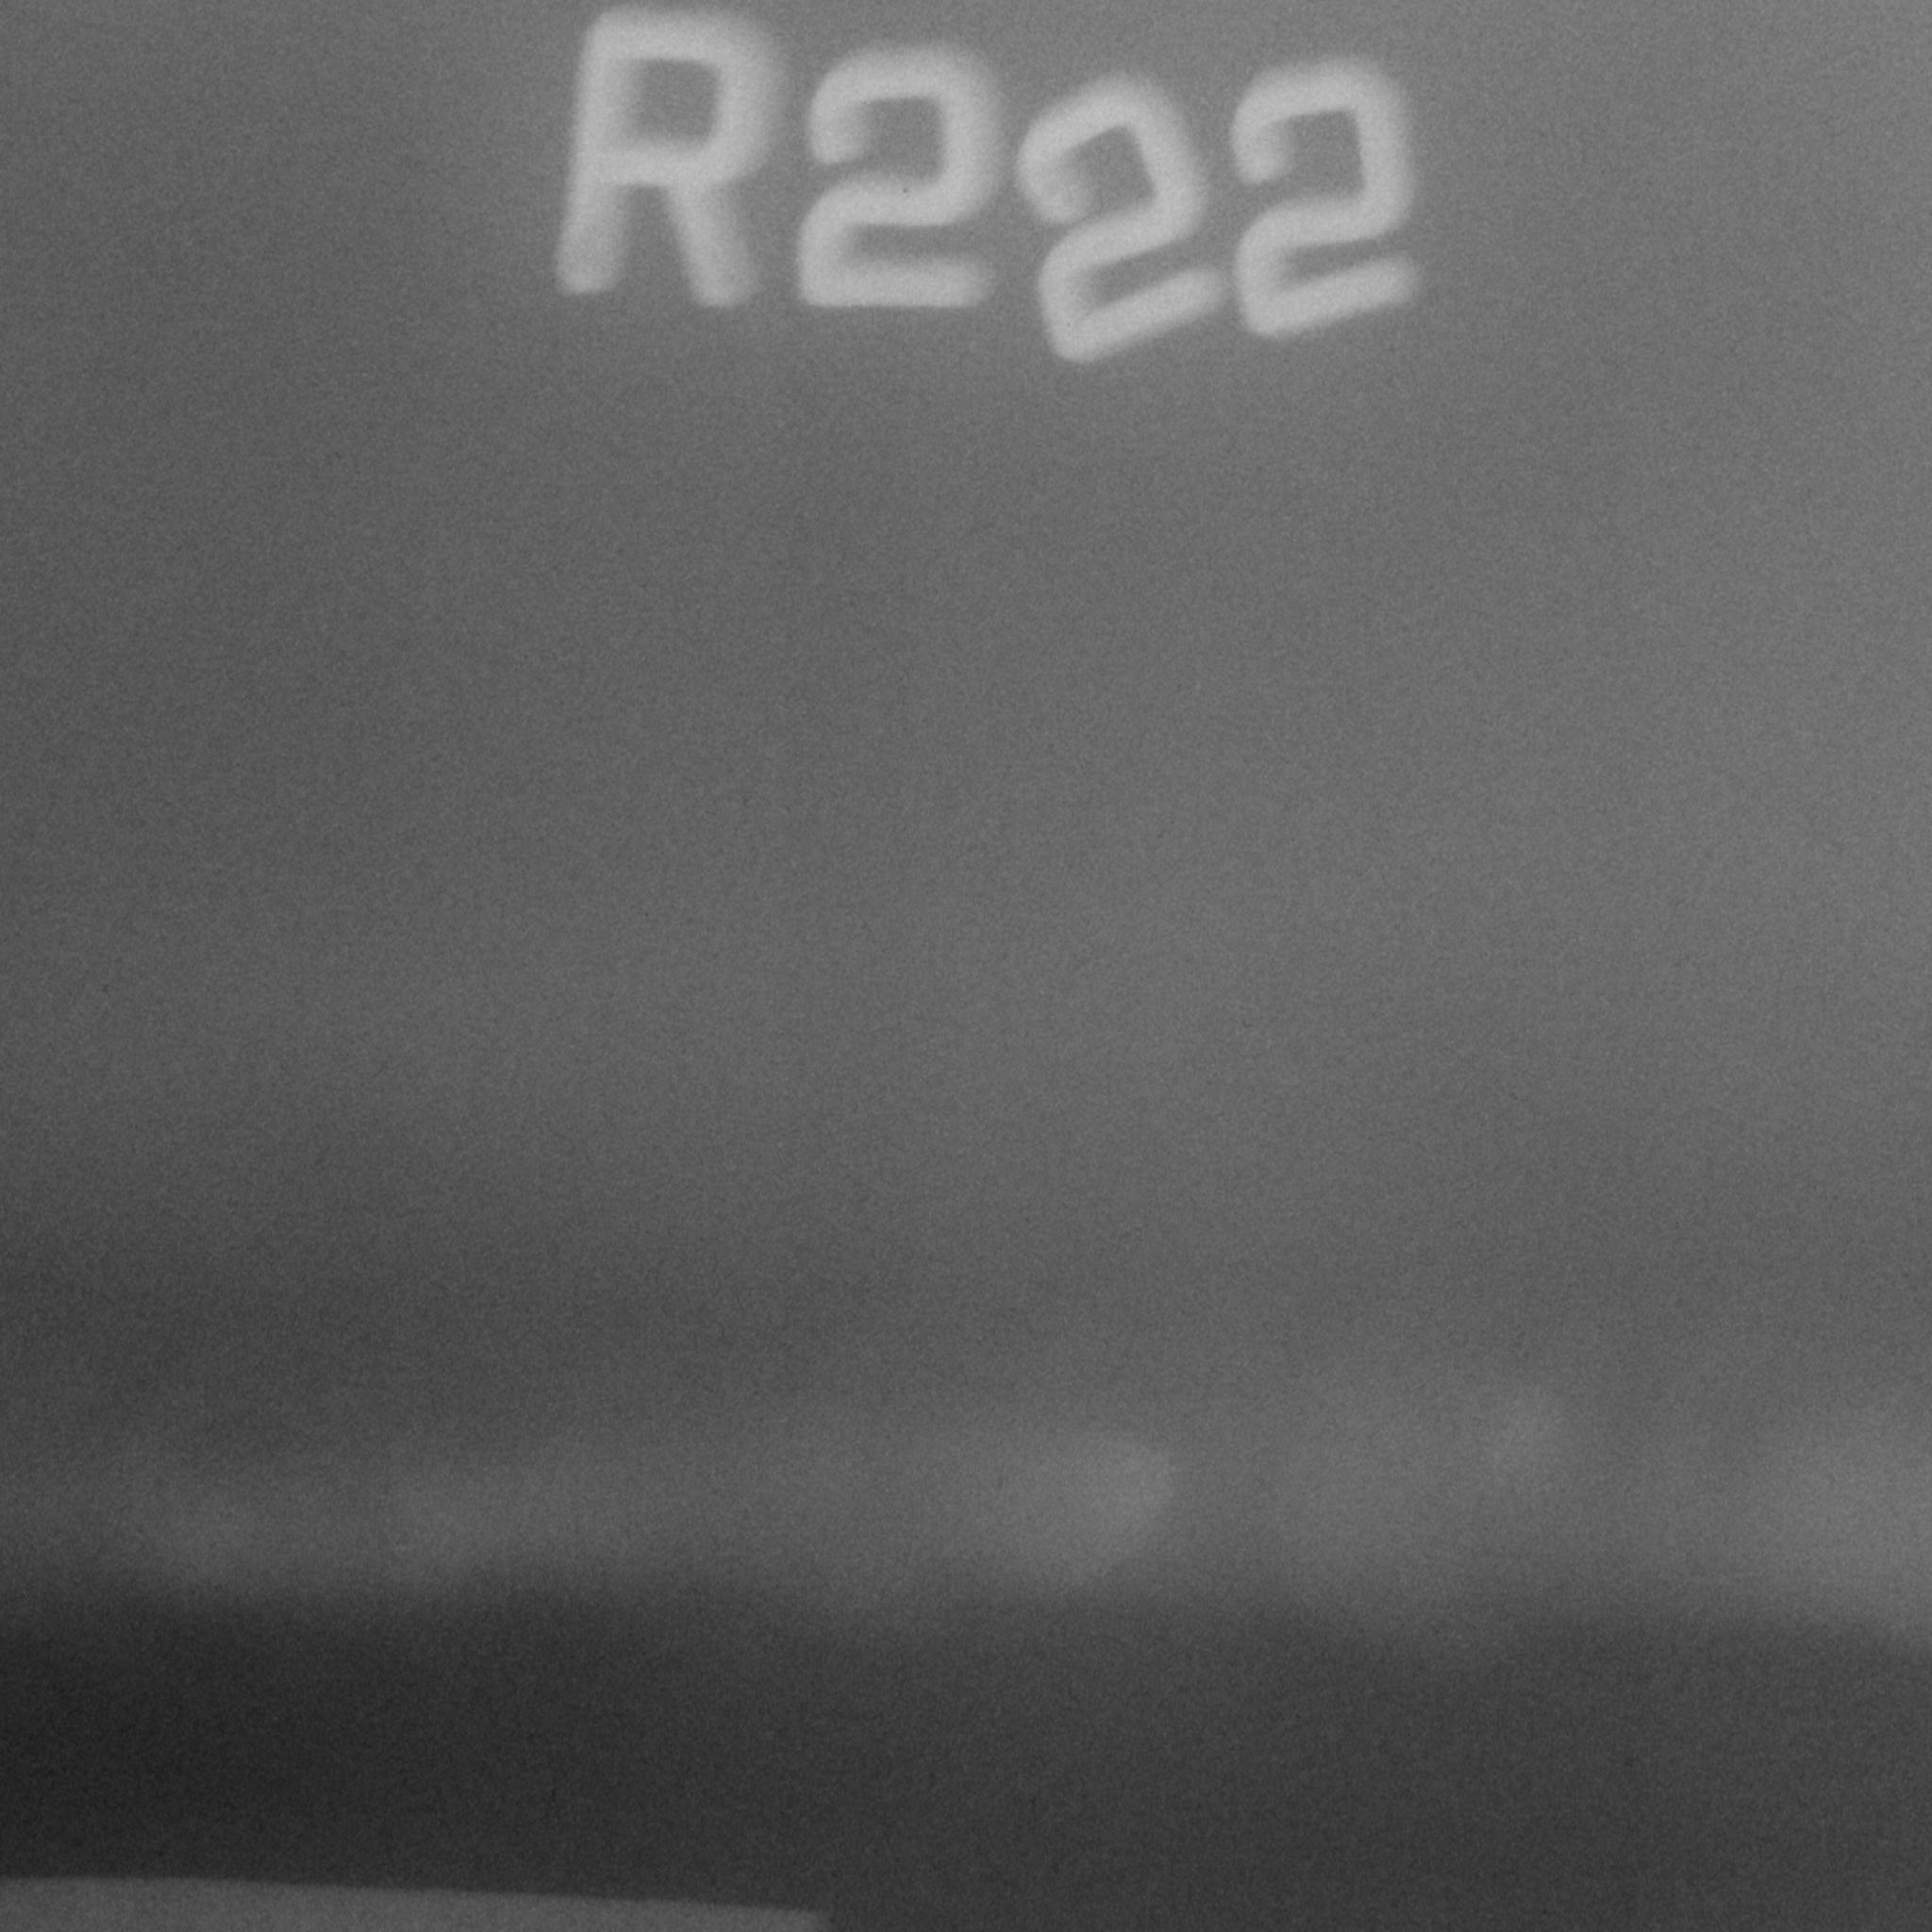Sem defeitos: (0, 1210, 1932, 1842)
